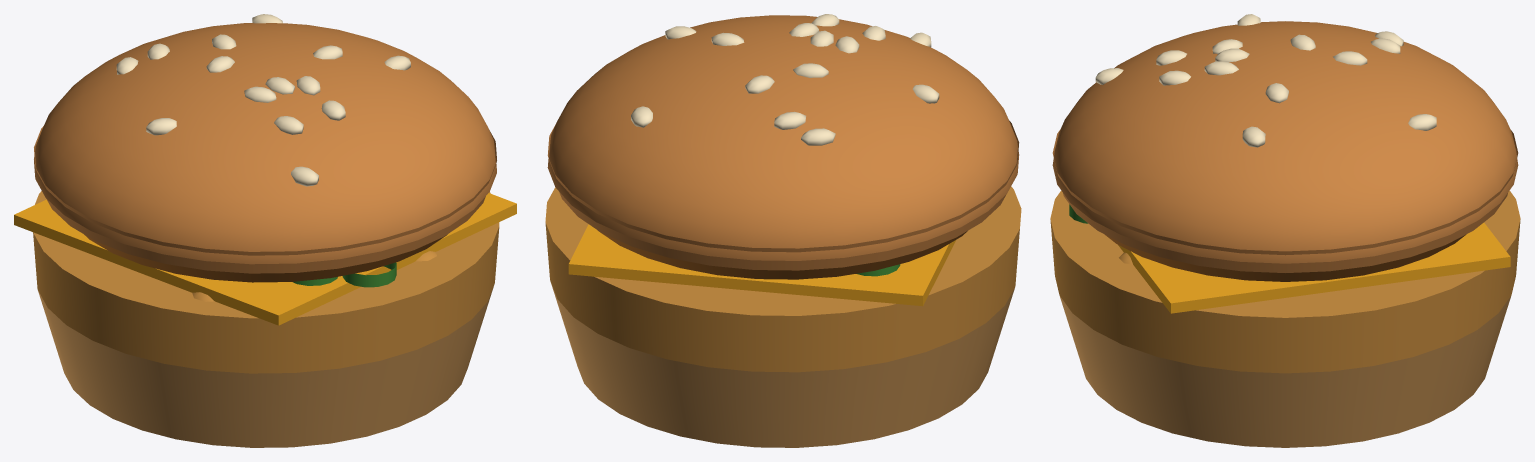
The model's file is burger-pollo-picante.glb.
The picture shows the model from 3 angles, left to right: view 1: azimuth 30°, elevation 25°; view 2: azimuth 150°, elevation 25°; view 3: azimuth 270°, elevation 25°; orthographic projection.
Size of the model in its own units: 0.1665 by 0.12 by 0.1665.
